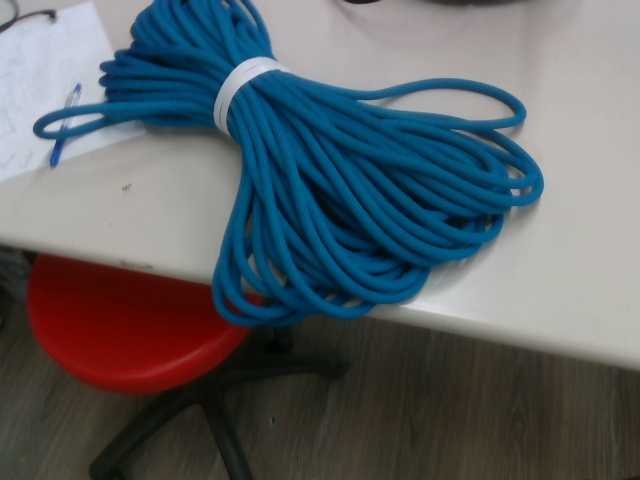rope: (32, 3, 554, 328)
